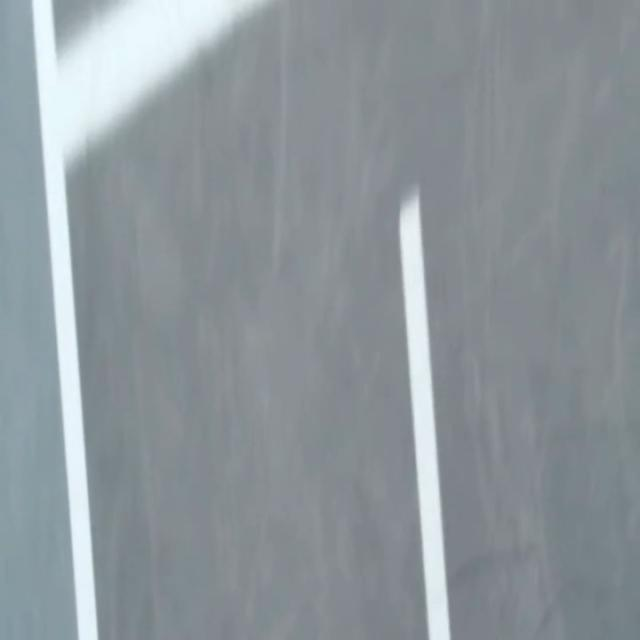center: (399, 188, 451, 639)
left: (31, 0, 98, 639)
